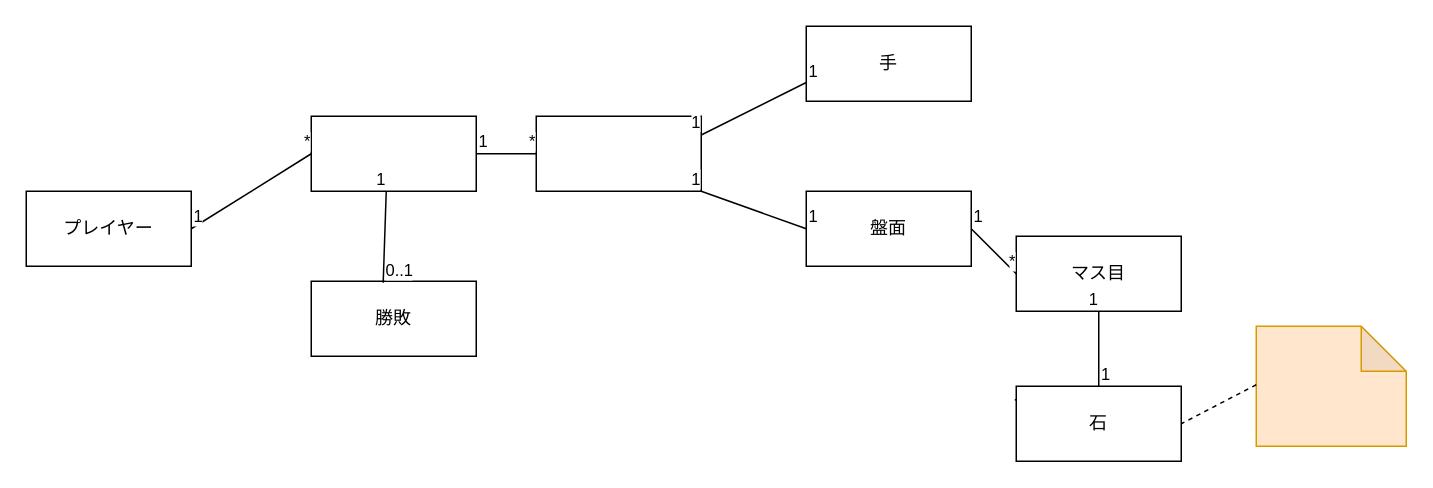
Image size: 1433x488. Some labels were removed from this diagram. The box of each missing label's shape, as (x1, y1, x2, y2) in pixels:
ターン: (535, 115, 701, 191)
対戦(対戦開始): (310, 115, 476, 191)
石の種類 ・空 ・黒 ・白: (1255, 325, 1406, 446)
